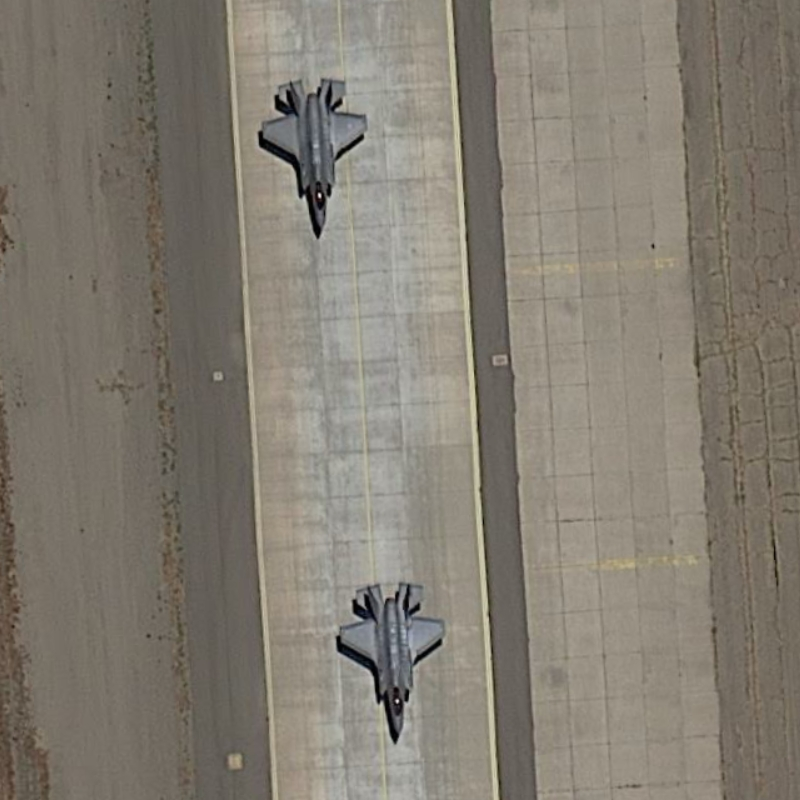A15: (254, 69, 377, 239), (330, 574, 449, 747)
